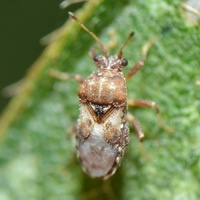insect: (49, 12, 153, 178)
